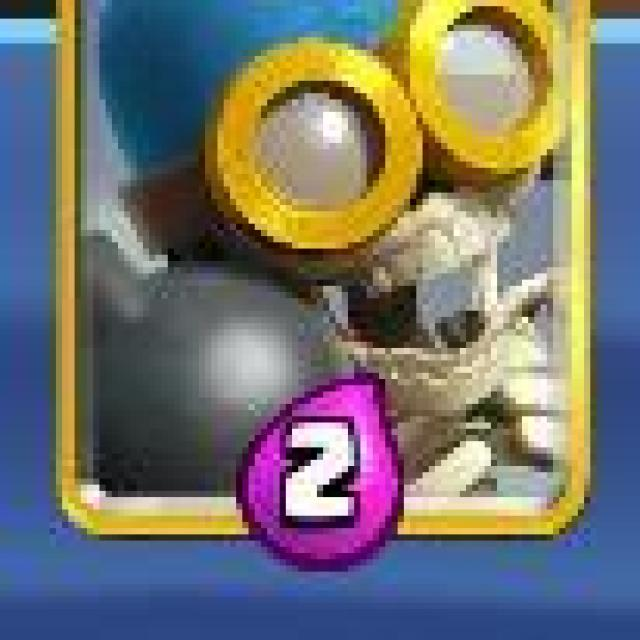Bomber: (55, 0, 597, 542)
